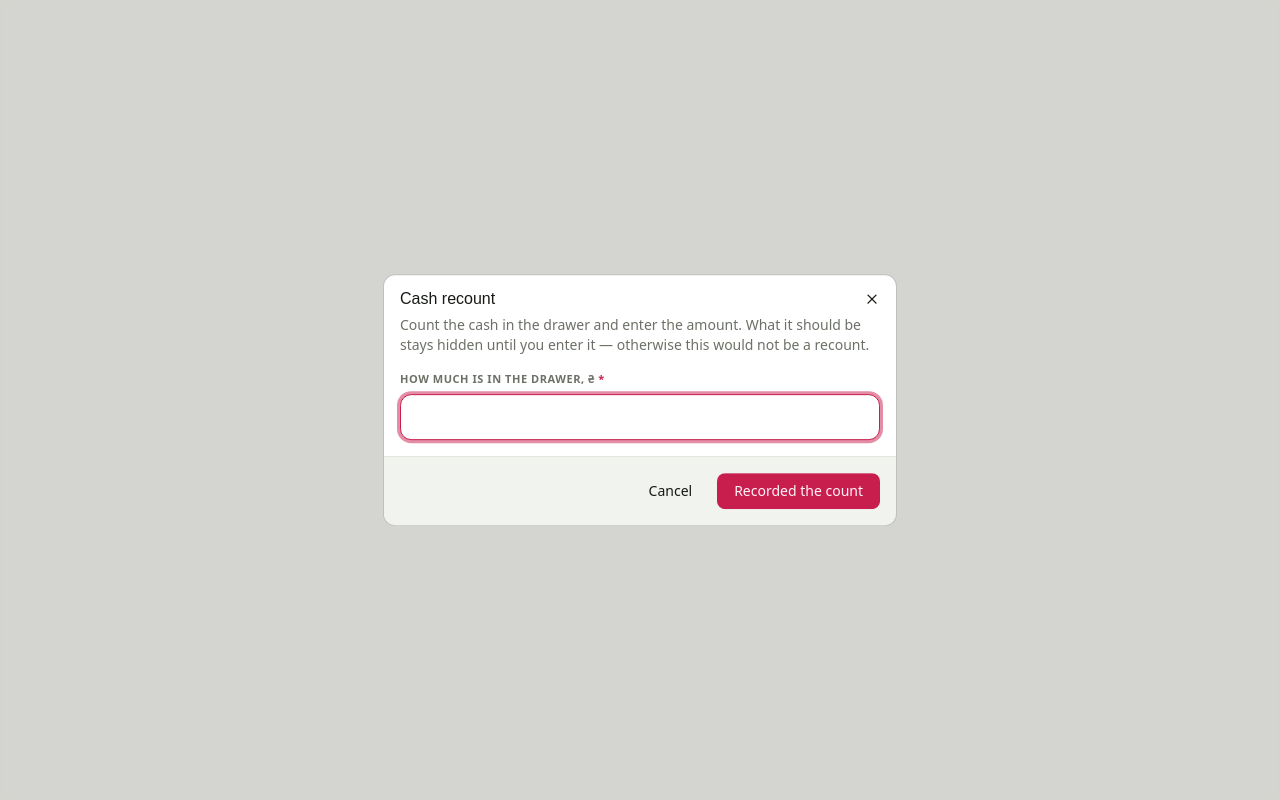
Test case: RecountDrawerDialog › refuses to submit an empty amount
The width and height of the screenshot is (1280, 800).
Click the button "Recorded the count": point(799, 491) [717,473,880,509]
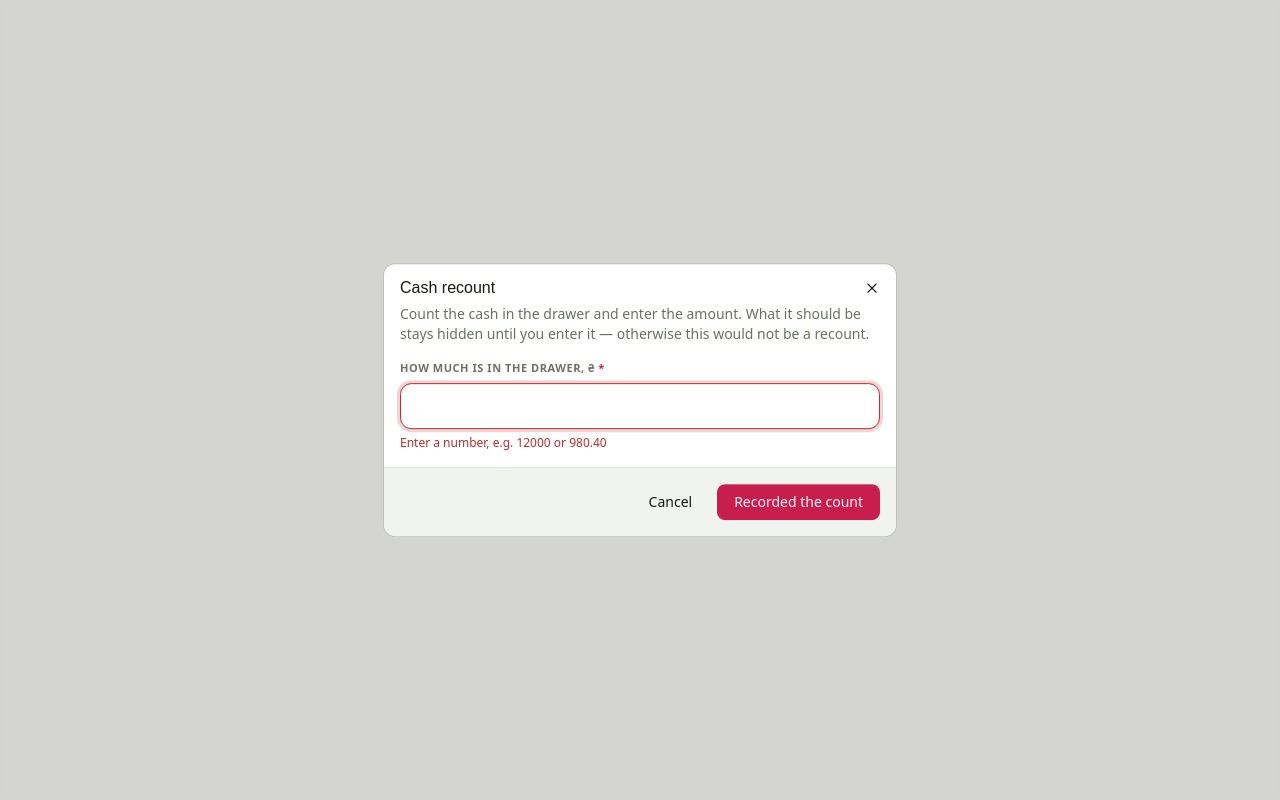
Check: the message "Enter a number, e.g. 12000 or 980.40" is shown, box [400,434,607,451]
